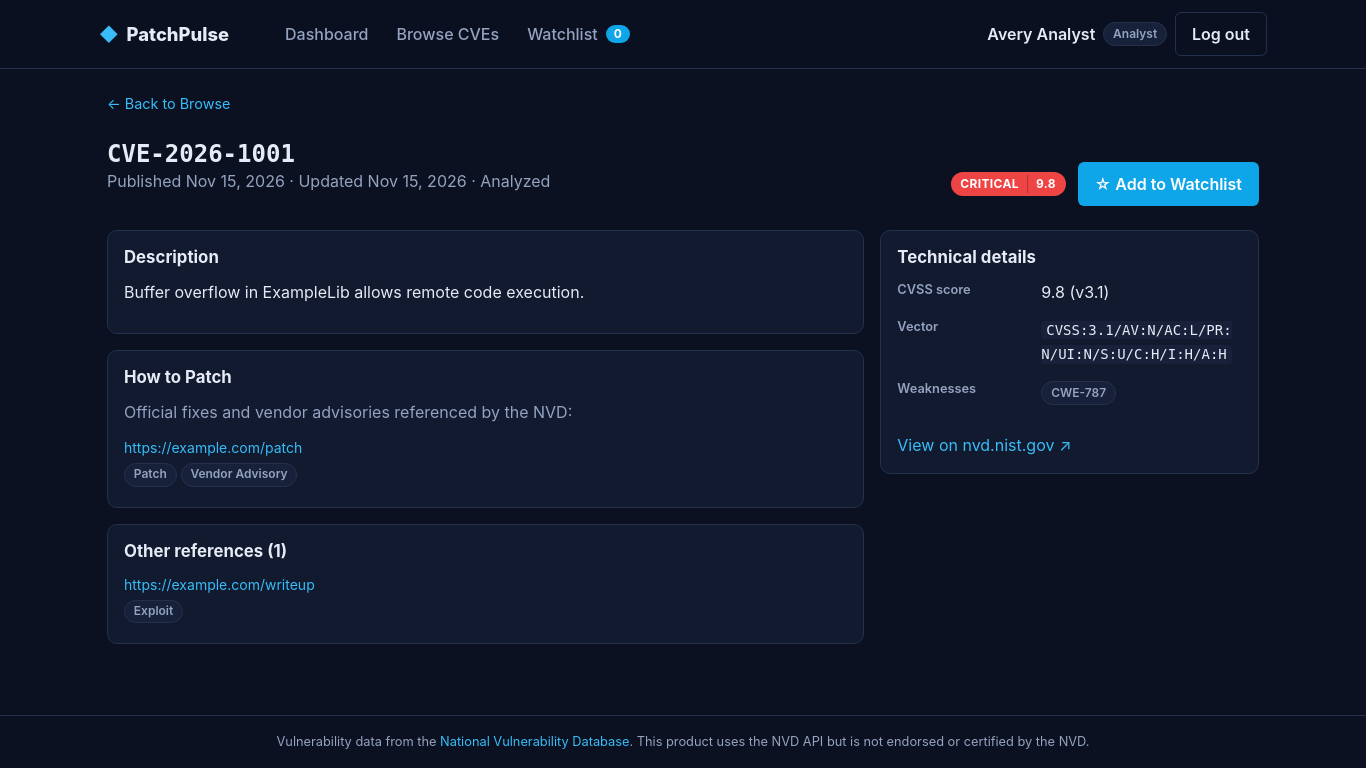
Test case: CveDetailPage › adding to the watchlist updates the navbar badge and shows remediation controls
The image size is (1366, 768).
Expected: the heading "CVE-2026-1001" is shown, [107,140,295,168]
Expected: the text named "0 saved" is shown, [606,25,630,43]
Step 1. Click the button with aria-label "add CVE-2026-1001 to watchlist" → coordinates (1168, 184), box [1078,162,1259,206]
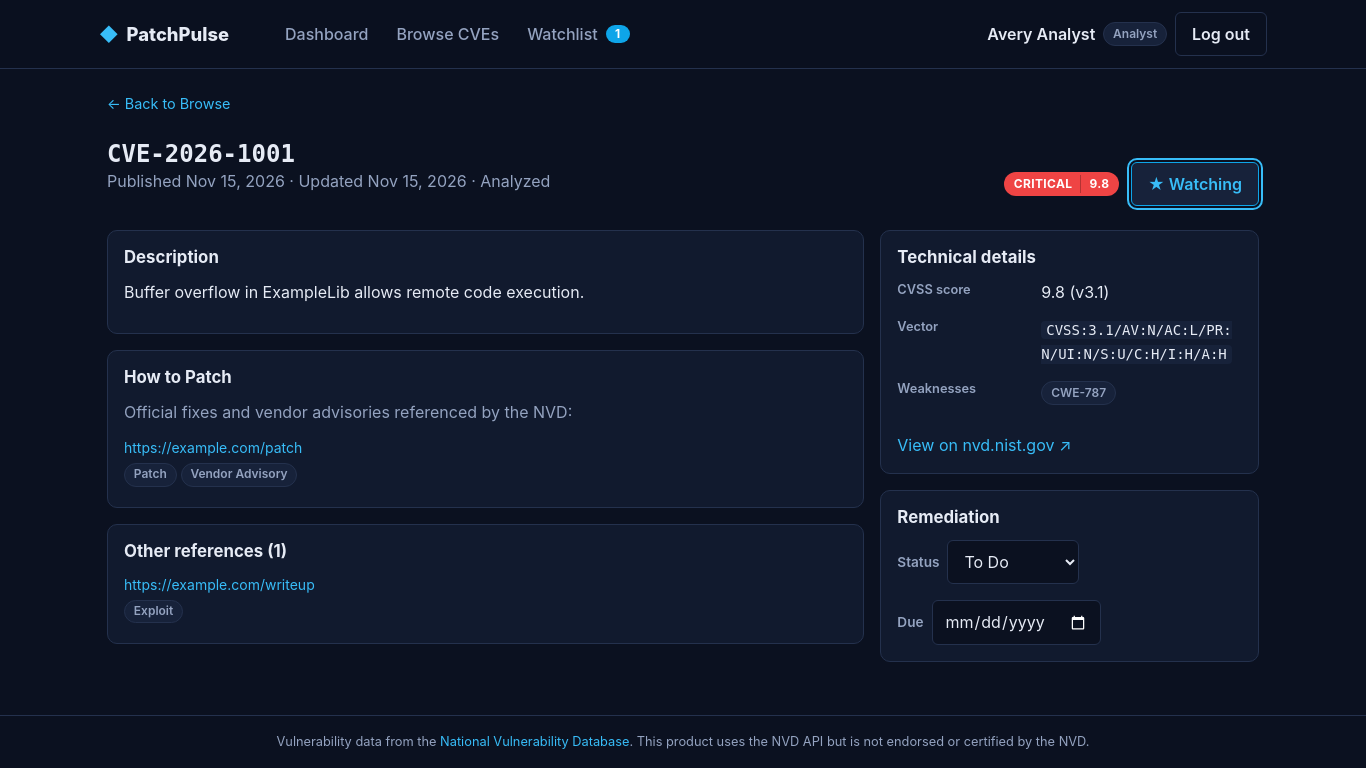
Expected: the text named "1 saved" is shown, [606,25,630,43]
Expected: the heading "Remediation" is shown, [897,508,1000,528]
Step 2. Select "Patched" in the dropdown labelled "Status" → coordinates (1013, 562), box [947,540,1079,584]
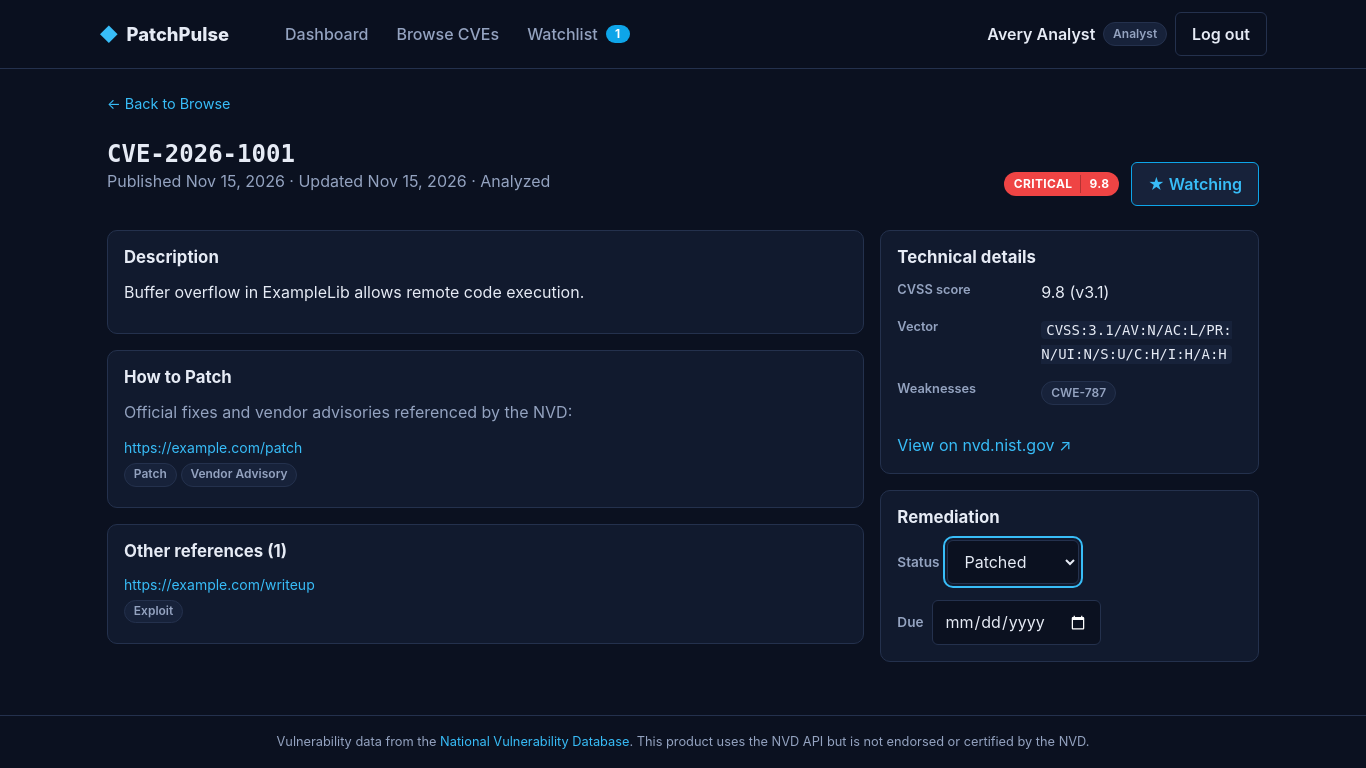
Step 3. Click the link "Watchlist 1" → coordinates (578, 34), box [527,24,630,44]
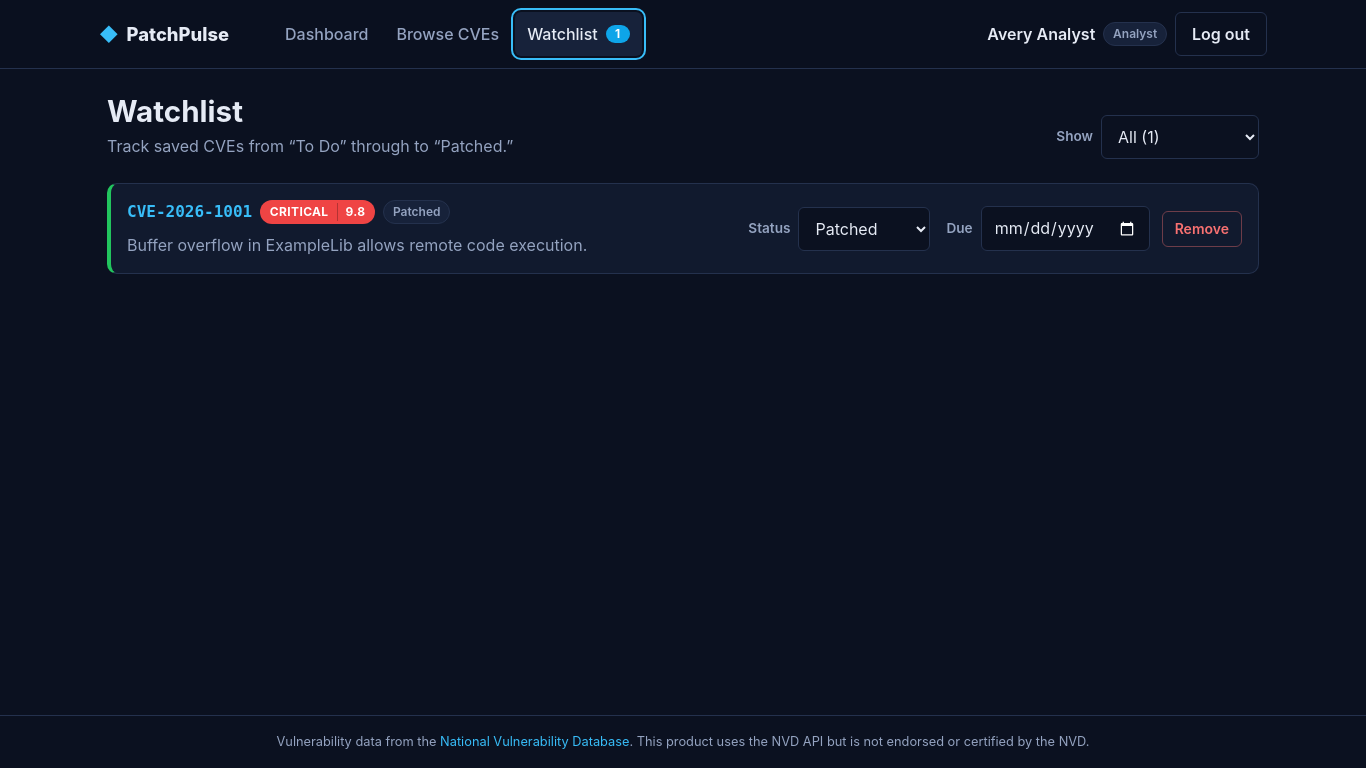
Expected: the text "Patched" is shown, [383,200,450,224]
